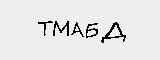А: (70, 22, 84, 39)
Б: (83, 18, 101, 39)
Д: (103, 20, 127, 44)
М: (50, 19, 73, 38)
Т: (37, 19, 53, 37)
